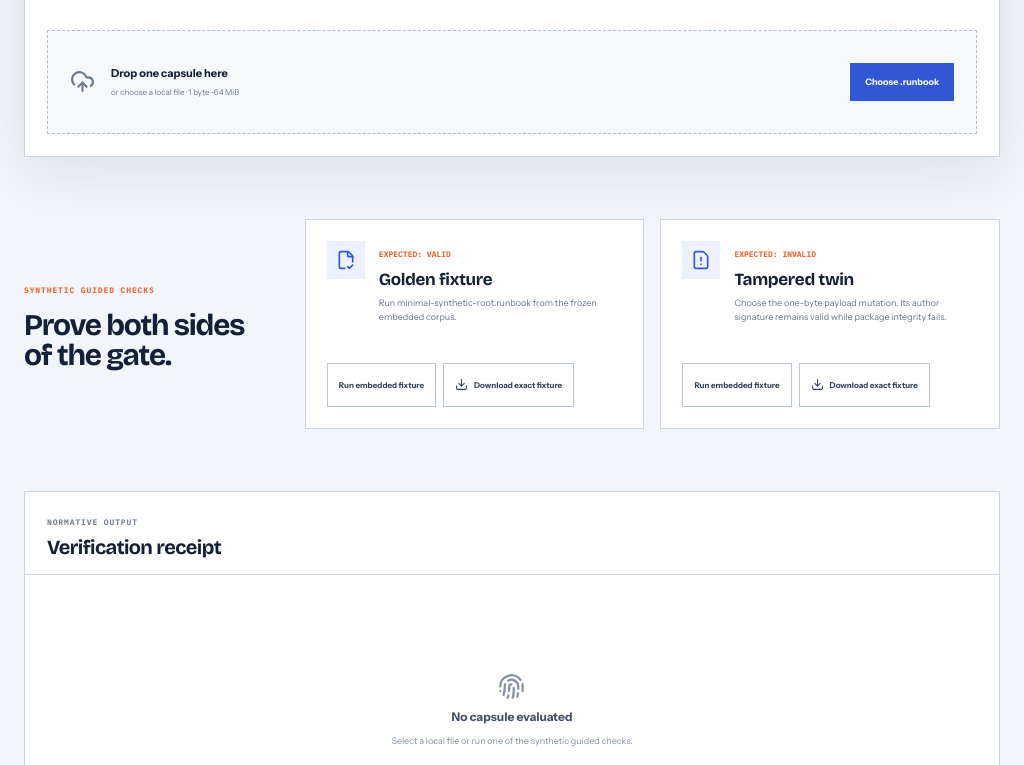
Evidence Relay capsule verifier › runs the exact embedded golden fixture without a file chooser
The image size is (1024, 765).
(page scrolled)
Click the button "Run embedded fixture" below "Golden fixture": (382, 384) [327, 362, 436, 406]
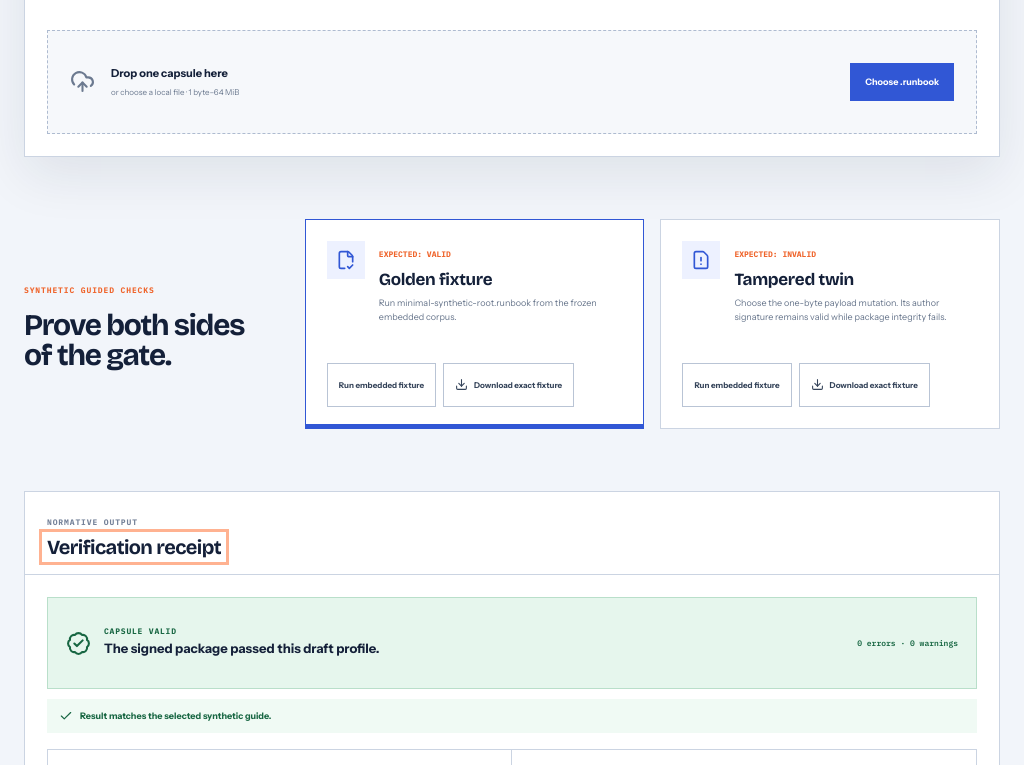
Now the text "CAPSULE VALID" is shown, box [104, 626, 177, 636]
Now the text "Result matches the selected synthetic guide." is shown, box [47, 699, 977, 733]
